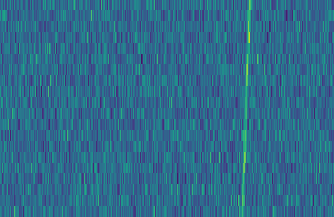signal: (239, 0, 255, 217)
